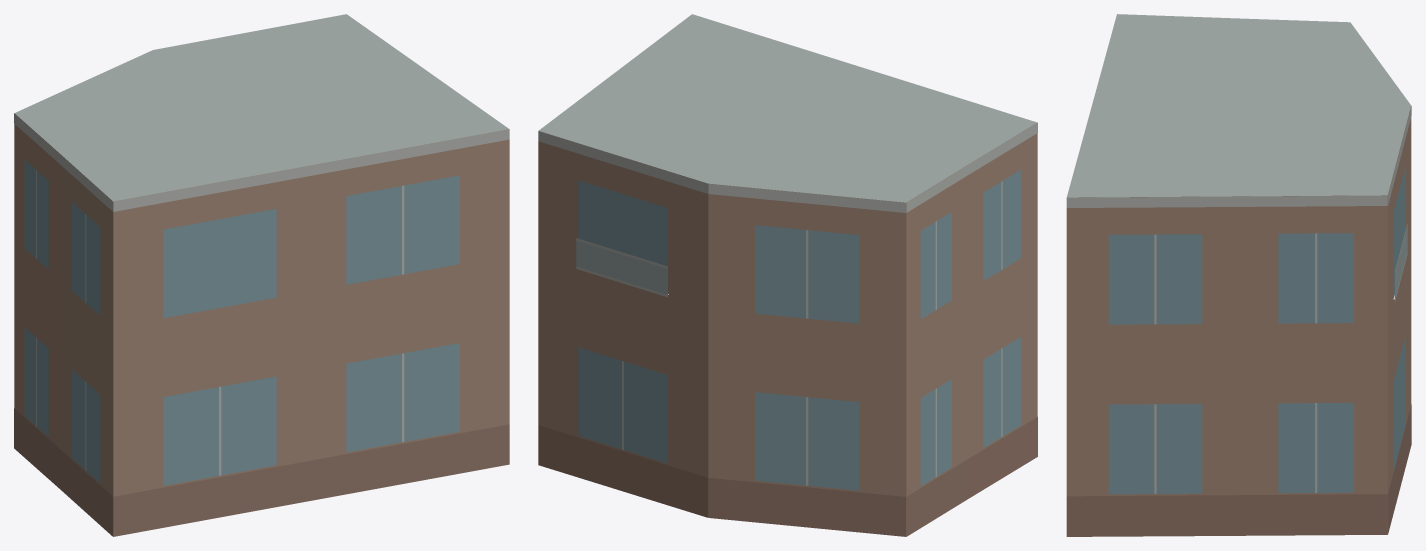
The model's file is survey-upis-32545492.glb.
The picture shows the model from 3 angles, left to right: view 1: azimuth 30°, elevation 25°; view 2: azimuth 150°, elevation 25°; view 3: azimuth 270°, elevation 25°; orthographic projection.
Visible parts, largest first — view 1: survey-upis-32545492.tmp; view 2: survey-upis-32545492.tmp; view 3: survey-upis-32545492.tmp.
Part boxes in pixels (left/top/right/bottom): survey-upis-32545492.tmp: left=14, top=14, right=509, bottom=536; survey-upis-32545492.tmp: left=538, top=14, right=1037, bottom=536; survey-upis-32545492.tmp: left=1066, top=14, right=1411, bottom=536.
Size of the model in its own units: 9.11 by 7.85 by 7.24.
